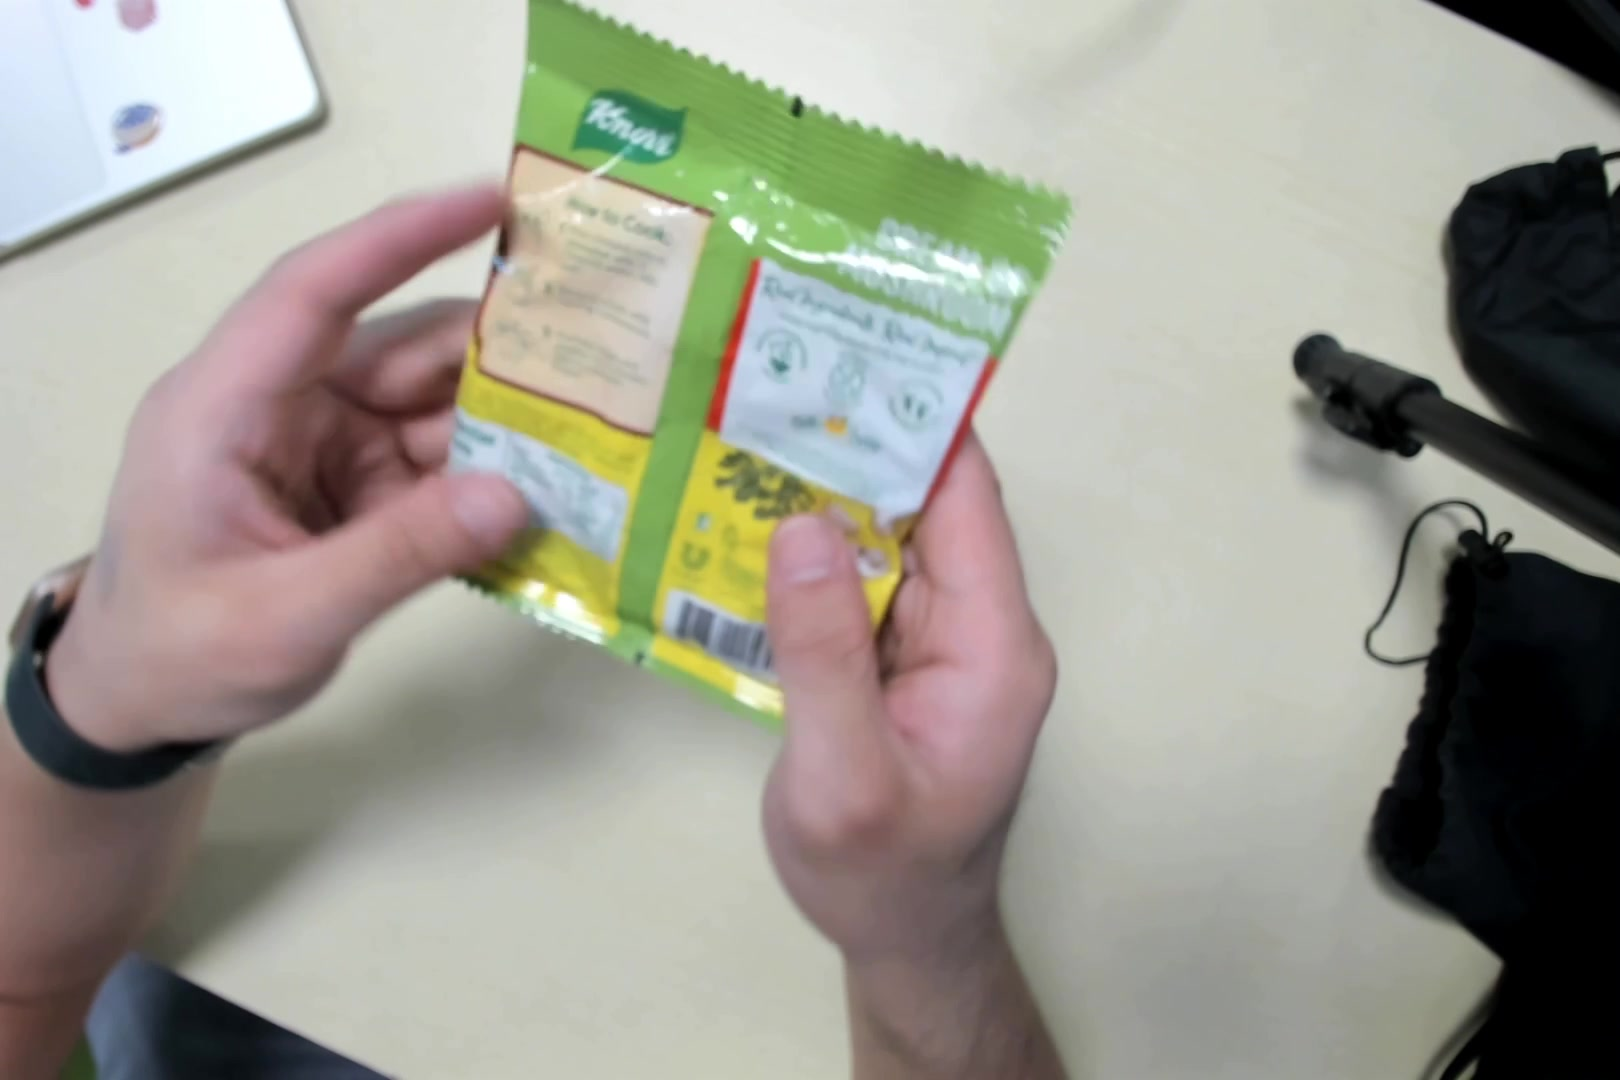OtherBakingNeeds_0-99g_NonHalal_NonHealthy: (429, 2, 1072, 736)
